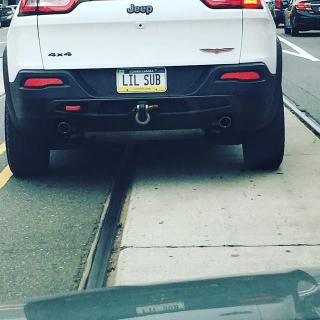license: (117, 68, 168, 94)
